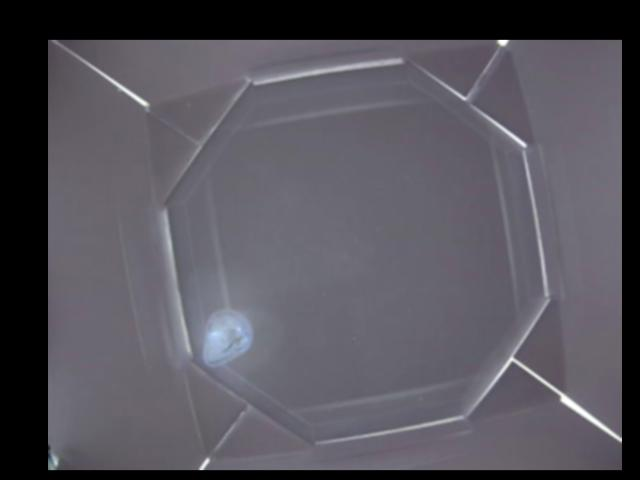Pebble: (203, 307, 254, 367)
